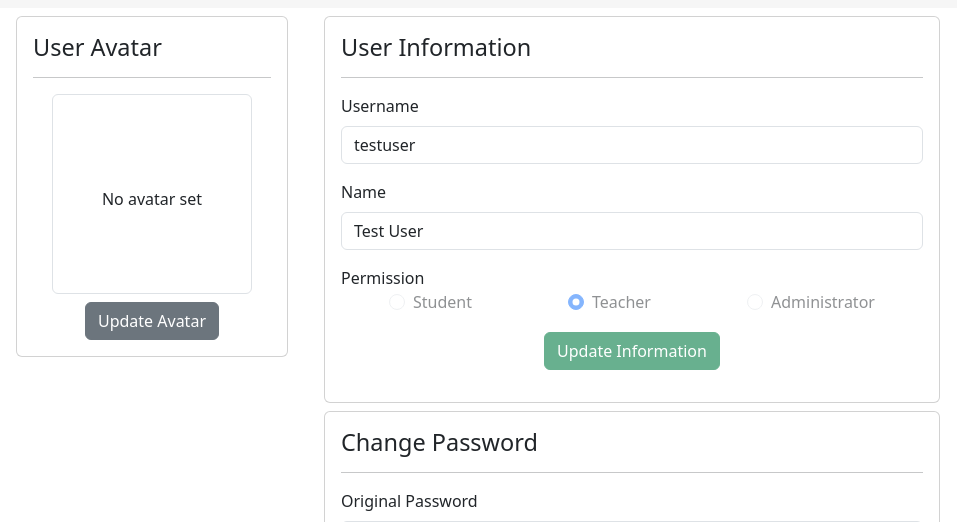
UserProfile Component › handles empty username on update
The width and height of the screenshot is (957, 522).
(page scrolled)
Clear the field labelled "Username" at coordinates (632, 145), box [341,126,923,164]
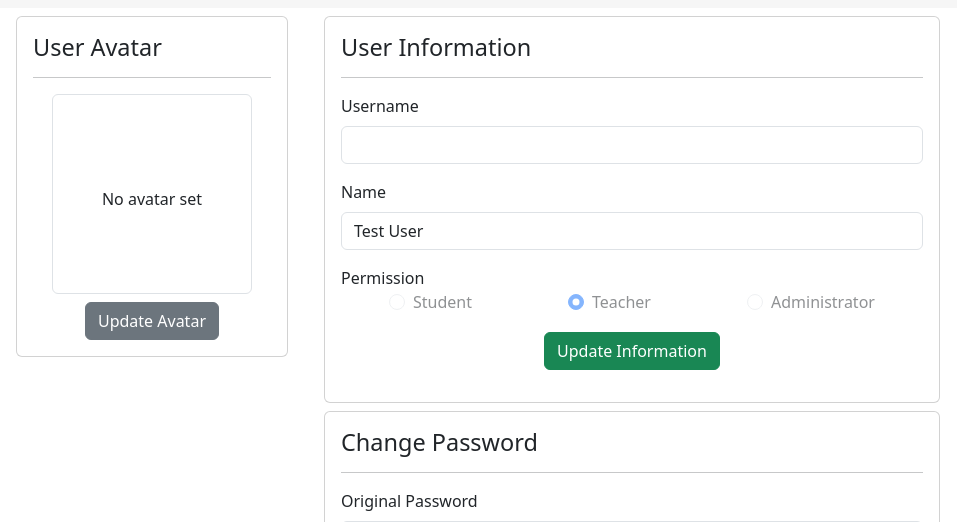
Click the button "Update Information" at coordinates (632, 351), box [544,332,720,370]
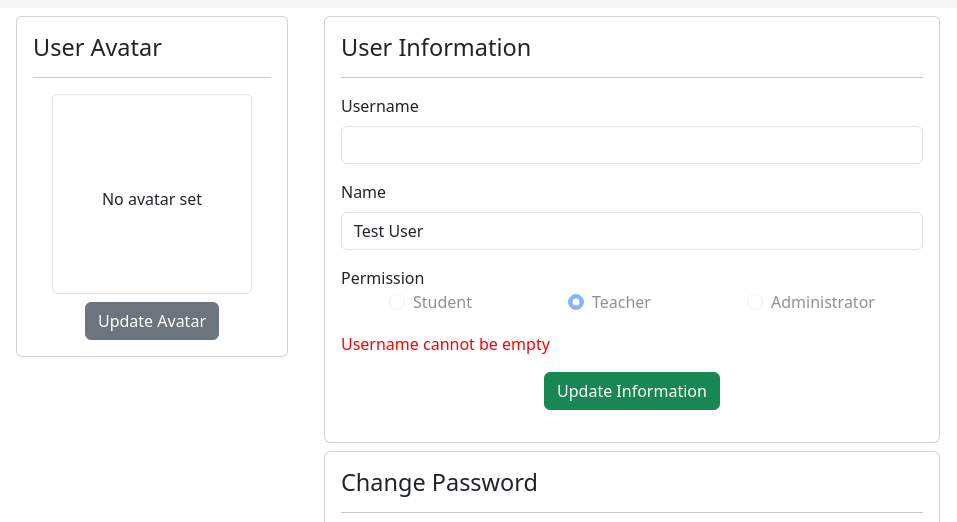
Expected: the text "Username cannot be empty" is shown, [341,333,550,355]
